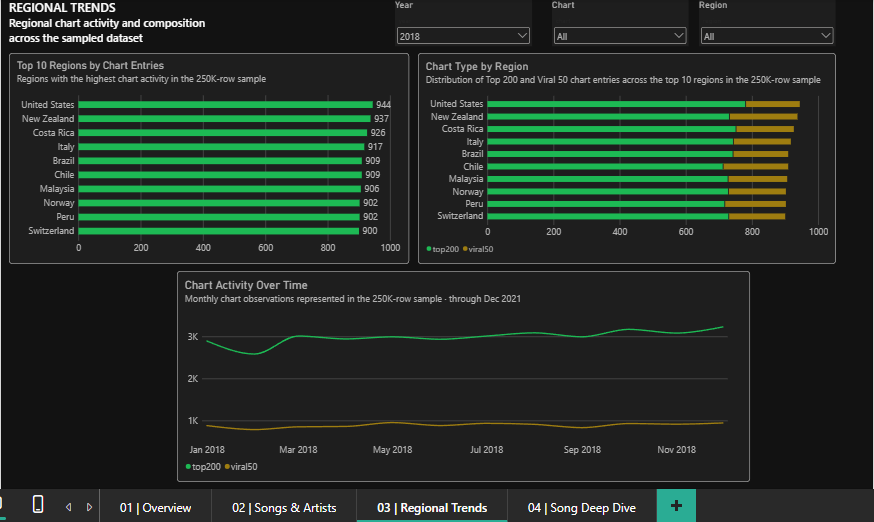

The dashboard page shown, as its layout file describes it:
{"tool":"powerbi","page":{"name":"03 | Regional Trends","canvas":[1920,1080],"ordinal":2},"visuals":[{"type":"clusteredBarChart","title":"Top 10 Regions by Chart Entries","fields":{"Category":["dim_region.region"],"Y":["_Measures.Chart Entries"]},"box":[17.6,119,881.6,465.1],"z":0},{"type":"barChart","title":"Chart Type by Region","fields":{"Category":["dim_region.region"],"Y":["_Measures.Chart Entries"],"Series":["dim_chart.chart"]},"box":[919.1,119,921.3,465.1],"z":1000},{"type":"lineChart","title":"Chart Activity Over Time","fields":{"Category":["dim_date.date.Variation.Date Hierarchy.Year","dim_date.date.Variation.Date Hierarchy.Month"],"Y":["_Measures.Chart Entries"],"Series":["dim_chart.chart"]},"box":[387.9,599.5,1262.9,465.1],"z":2000},{"type":"slicer","title":"Year","fields":{"Values":["dim_date.year"]},"box":[868.4,0,302,104],"z":3000},{"type":"slicer","title":"Chart","fields":{"Values":["dim_chart.chart"]},"box":[1214.4,0,301,104],"z":4000},{"type":"slicer","title":"Region","fields":{"Values":["dim_region.region"]},"box":[1538.4,0,301,104],"z":5000},{"type":"textbox","box":[17.6,0,458.4,119],"z":6000}]}

Visuals, with their boxes on the page's 1920x1080 design canvas (x1, y1, x2, y2). These are canvas units, not pixel positions in the 874x522 screenshot, which may show the page scaled, cropped or inside an application window:
"Top 10 Regions by Chart Entries" clusteredBarChart: crop(18, 119, 899, 584)
"Chart Type by Region" barChart: crop(919, 119, 1840, 584)
"Chart Activity Over Time" lineChart: crop(388, 600, 1651, 1065)
"Year" slicer: crop(868, 0, 1170, 104)
"Chart" slicer: crop(1214, 0, 1515, 104)
"Region" slicer: crop(1538, 0, 1839, 104)
textbox: crop(18, 0, 476, 119)
